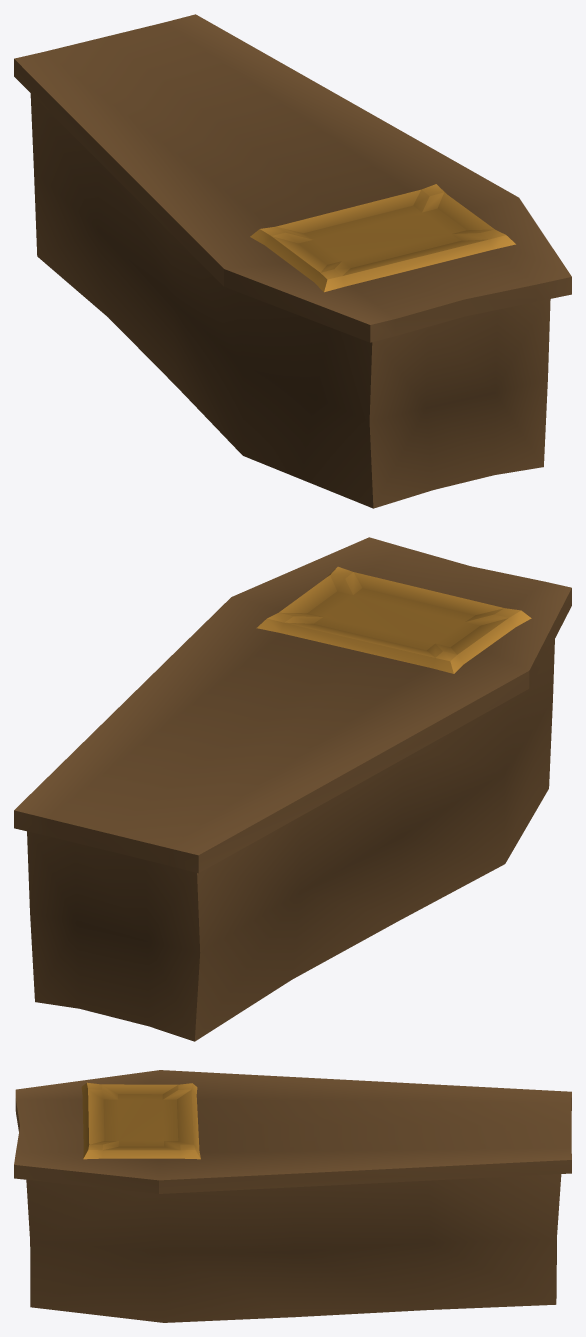
Rendered from obj_coffin_E_LOW.FBX.
The picture shows the model from 3 angles, top to bottom: view 1: azimuth 30°, elevation 25°; view 2: azimuth 150°, elevation 25°; view 3: azimuth 270°, elevation 25°; orthographic projection. The views are drawn at different scales.
Parts seen in each view (by area): view 1: obj_coffin_E_LOW; view 2: obj_coffin_E_LOW; view 3: obj_coffin_E_LOW.
Boxes of the visible parts, box(x1,y1,x2,y2) form: obj_coffin_E_LOW: box(14, 14, 571, 508); obj_coffin_E_LOW: box(14, 537, 571, 1041); obj_coffin_E_LOW: box(14, 1070, 571, 1322).
Size of the model in its own units: 1.54 by 1.03 by 3.3.
